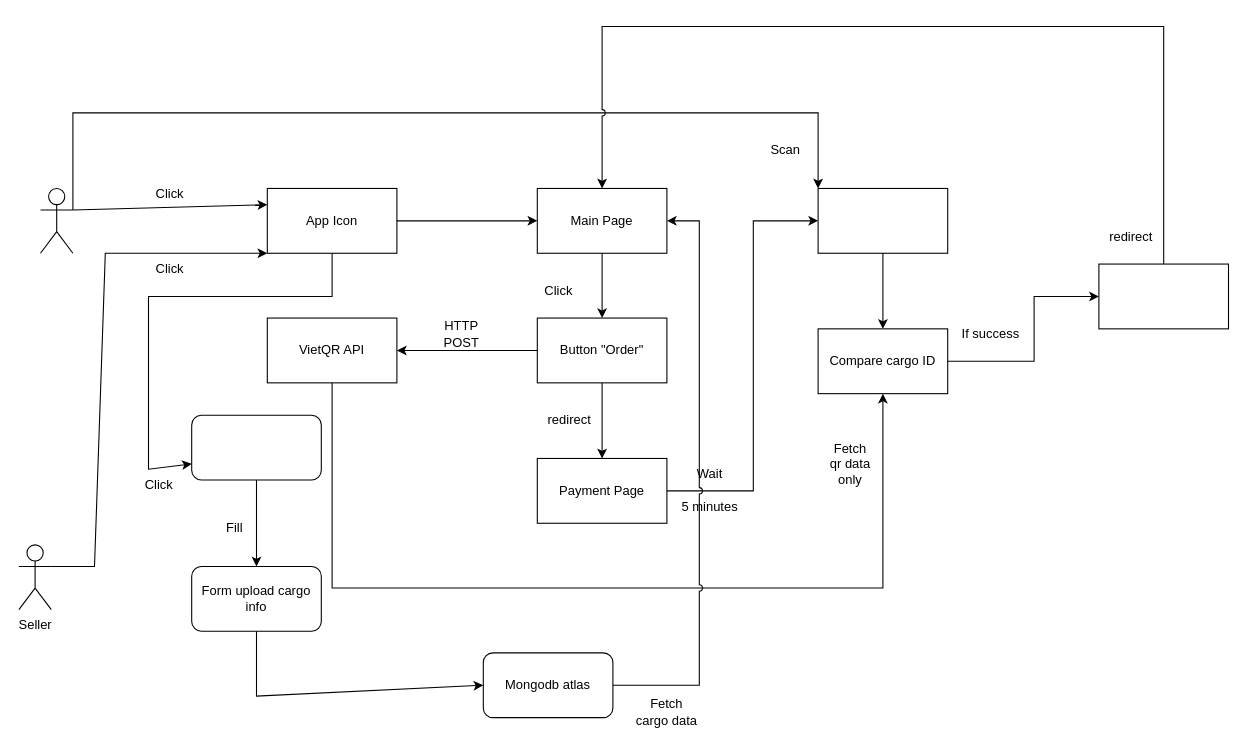
Image size: 1247x747. Some labels were removed from this diagram. The shapes that lost their labels are listed below. From the top down, each one's box as (x1, y1, x2, y2) in pixels, then its label:
(39, 187, 73, 253): User
(817, 187, 948, 253): Qr Scan Page
(1098, 263, 1228, 329): Notification UI success
(191, 414, 321, 480): Seller Page
